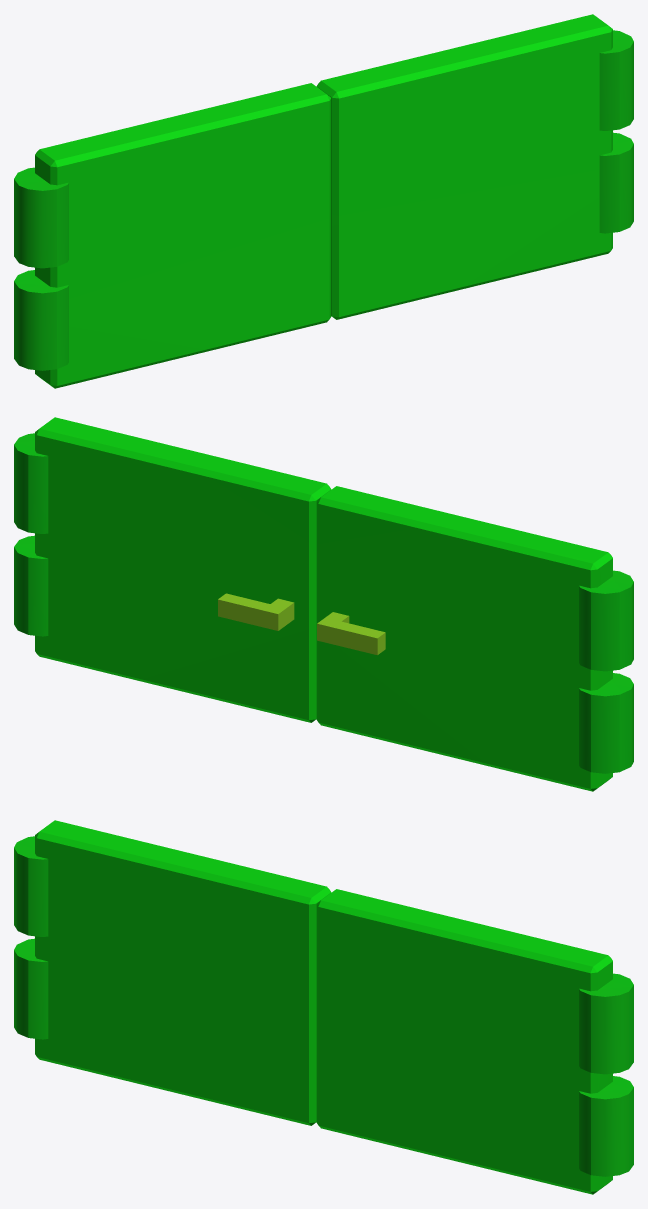
File: exit_door.fbx
3 renders of one model, top to bottom at view 1: azimuth 30°, elevation 25°; view 2: azimuth 150°, elevation 25°; view 3: azimuth 330°, elevation 25°, orthographic.
Parts seen in each view (by area): view 1: ExitDoor_L, ExitDoor_R; view 2: ExitDoor_L, ExitDoor_R; view 3: ExitDoor_R, ExitDoor_L.
Boxes of the visible parts, x1,y1,x2,y2 form: ExitDoor_L: (14, 83, 331, 388); ExitDoor_R: (316, 14, 633, 319); ExitDoor_L: (316, 486, 633, 791); ExitDoor_R: (14, 417, 331, 722); ExitDoor_R: (316, 889, 633, 1194); ExitDoor_L: (14, 820, 331, 1125).
Bounding box in the file's own units: 4.15 × 1.48 × 0.4769.
